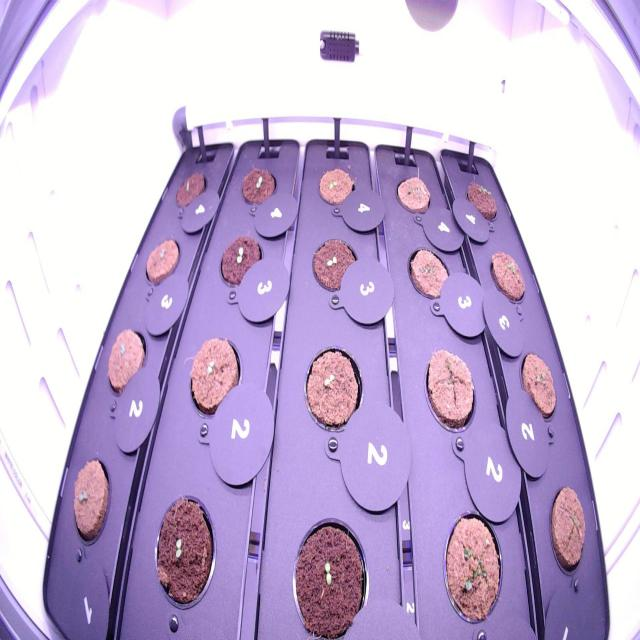germination: (286, 511, 373, 638), (147, 483, 223, 618), (296, 338, 366, 438), (185, 329, 247, 427), (66, 450, 115, 555), (308, 233, 363, 304), (104, 320, 150, 401), (513, 346, 560, 424), (214, 231, 266, 295), (484, 244, 529, 306), (142, 230, 184, 294), (236, 159, 281, 214), (313, 161, 357, 214), (461, 174, 500, 228)
pod: (437, 504, 508, 629), (418, 341, 480, 439), (543, 479, 590, 583), (402, 240, 454, 310), (391, 167, 434, 224), (169, 164, 211, 214)
